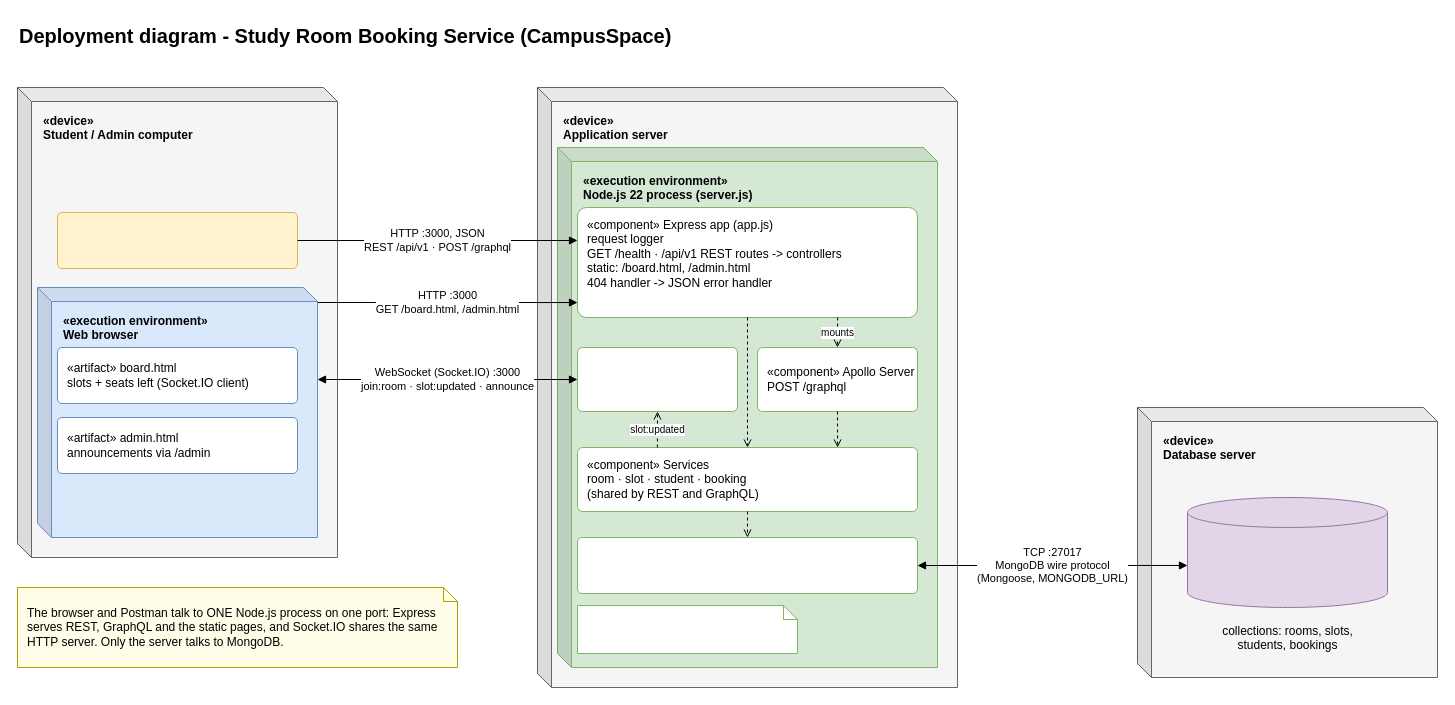
Some shapes in this 1455 by 705 pixel diagram are drawn without their labels. Each missing label, with the centre of its shape:
MongoDB database: srb: point 1287,552
«artifact» Postman REST + GraphQL requests: point 177,240
«component» Mongoose models Room · Slot · Student · Booking: point 747,565
«component» Socket.IO "/" boards (rooms per roomCode) "/admin" (needs adminKey): point 657,379
«file» .env PORT, MONGODB_URL, ADMIN_KEY: point 687,629
